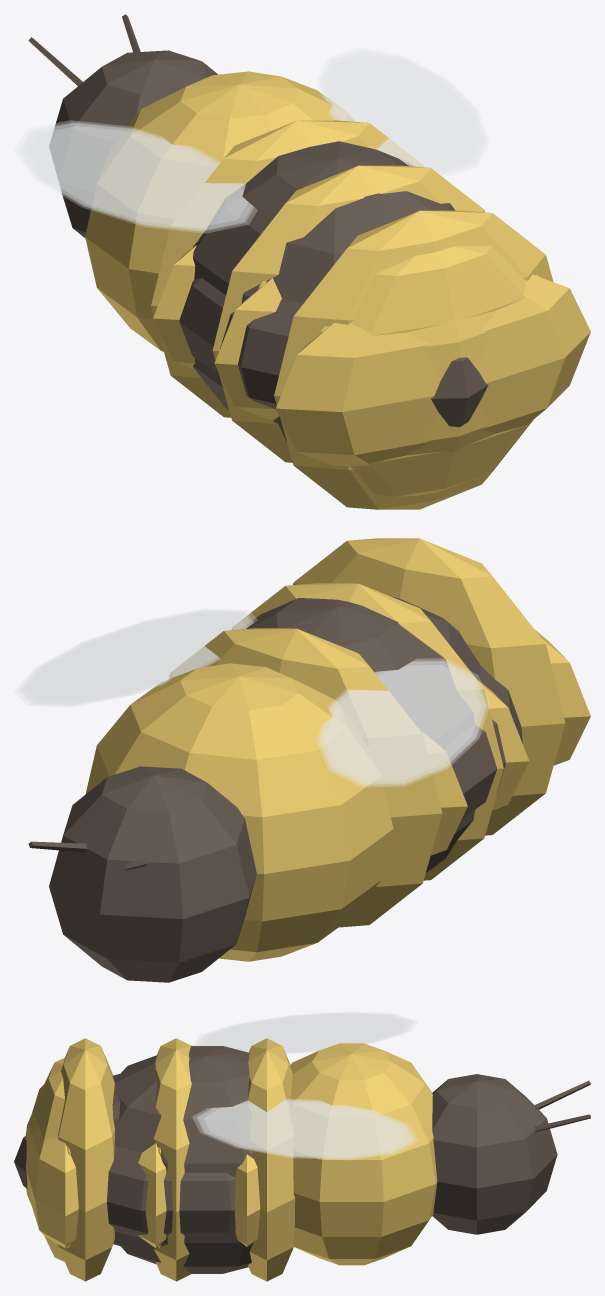
The model's file is fauna_bee.glb.
3 renders of one model, top to bottom at view 1: azimuth 30°, elevation 25°; view 2: azimuth 150°, elevation 25°; view 3: azimuth 270°, elevation 25°, orthographic. The views are drawn at different scales.
Parts seen in each view (by area): view 1: leafcutter_Band2, round_Body, round_Abdomen, round_Band2, stout_Band2, stout_WingL, round_WingL, leafcutter_Head, stout_WingR, round_Band1, slender_WingL, round_Band0 (+10 smaller); view 2: round_Body, leafcutter_Head, round_Band2, round_Band0, round_Abdomen, round_WingL, stout_WingL, round_WingR, leafcutter_WingL, leafcutter_WingR, round_Band1, slender_WingR (+7 smaller); view 3: round_Body, leafcutter_Head, round_Abdomen, round_Band2, round_Band0, round_WingR, stout_WingR, leafcutter_Abdomen, round_Band1, stout_WingL, slender_WingL, leafcutter_Band2 (+9 smaller).
Part boxes in pixels (<box>): leafcutter_Band2: <box>276,274,590,466</box>; round_Body: <box>85,71,354,351</box>; round_Abdomen: <box>193,141,455,441</box>; round_Band2: <box>274,210,553,509</box>; stout_Band2: <box>320,246,539,496</box>; stout_WingL: <box>21,123,252,230</box>; round_WingL: <box>27,126,247,226</box>; leafcutter_Head: <box>49,50,217,237</box>; stout_WingR: <box>321,51,485,172</box>; round_Band1: <box>212,165,484,462</box>; slender_WingL: <box>14,120,257,233</box>; round_Band0: <box>151,120,422,417</box>; round_Body: <box>85,663,393,961</box>; leafcutter_Head: <box>49,766,256,982</box>; round_Band2: <box>293,538,565,835</box>; round_Band0: <box>169,628,442,927</box>; round_Abdomen: <box>242,596,480,872</box>; round_WingL: <box>325,665,480,780</box>; stout_WingL: <box>321,662,485,783</box>; round_WingR: <box>27,614,247,702</box>; leafcutter_WingL: <box>319,660,486,784</box>; leafcutter_WingR: <box>18,610,253,705</box>; round_Band1: <box>232,583,503,880</box>; slender_WingR: <box>14,608,257,707</box>; round_Body: <box>290,1043,437,1265</box>; leafcutter_Head: <box>432,1074,557,1234</box>; round_Abdomen: <box>114,1046,253,1273</box>; round_Band2: <box>58,1038,114,1281</box>; round_Band0: <box>248,1038,295,1281</box>; round_WingR: <box>204,1102,406,1156</box>; stout_WingR: <box>198,1100,412,1158</box>; leafcutter_Abdomen: <box>107,1146,235,1238</box>; round_Band1: <box>153,1038,191,1281</box>; stout_WingL: <box>198,1013,411,1052</box>; slender_WingL: <box>192,1011,417,1053</box>; leafcutter_Band2: <box>26,1085,78,1248</box>.
Size of the model in its own units: 1.75 by 1.21 by 2.86.
